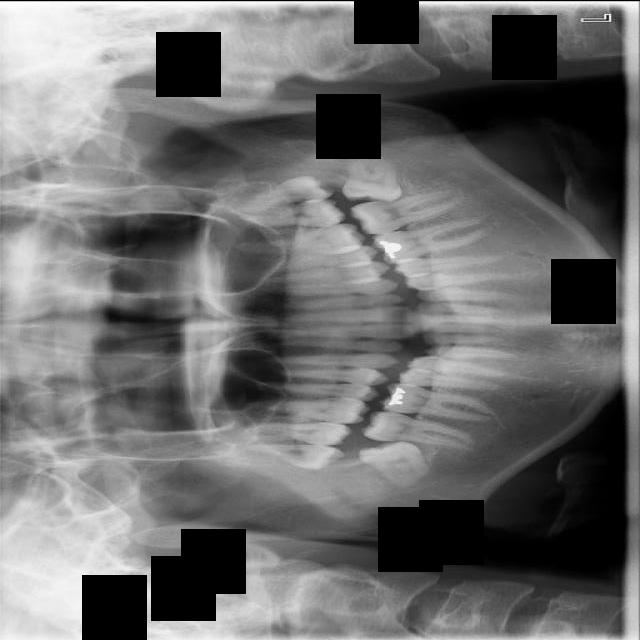3M ESPE Implant: (224, 437, 345, 471)
52: (367, 220, 419, 274), (376, 378, 424, 418)
73: (615, 12, 621, 20)
BioHorizons Implant: (227, 198, 347, 228)
BioLife Implant: (222, 169, 337, 218)
Biomet 3i Implant: (342, 154, 402, 204)
Blue Sky Bio Implant: (348, 186, 468, 238)
Caries: (246, 421, 353, 445)
Implant: (359, 407, 476, 452)
Keystone Dental Implant: (356, 419, 438, 497)
